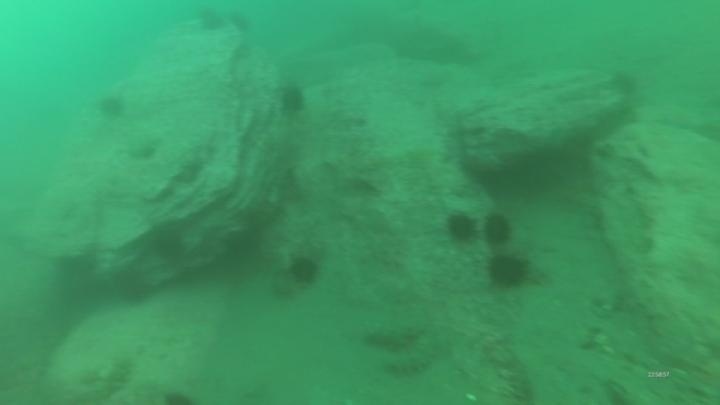echinus: (110, 264, 155, 308), (485, 251, 532, 291), (150, 227, 188, 264), (481, 210, 515, 249), (443, 209, 479, 245), (286, 253, 322, 288), (276, 82, 309, 118), (95, 92, 128, 122), (608, 68, 641, 98), (194, 6, 228, 35), (228, 10, 255, 36)
holothurian: (361, 320, 433, 362), (379, 330, 440, 378)
